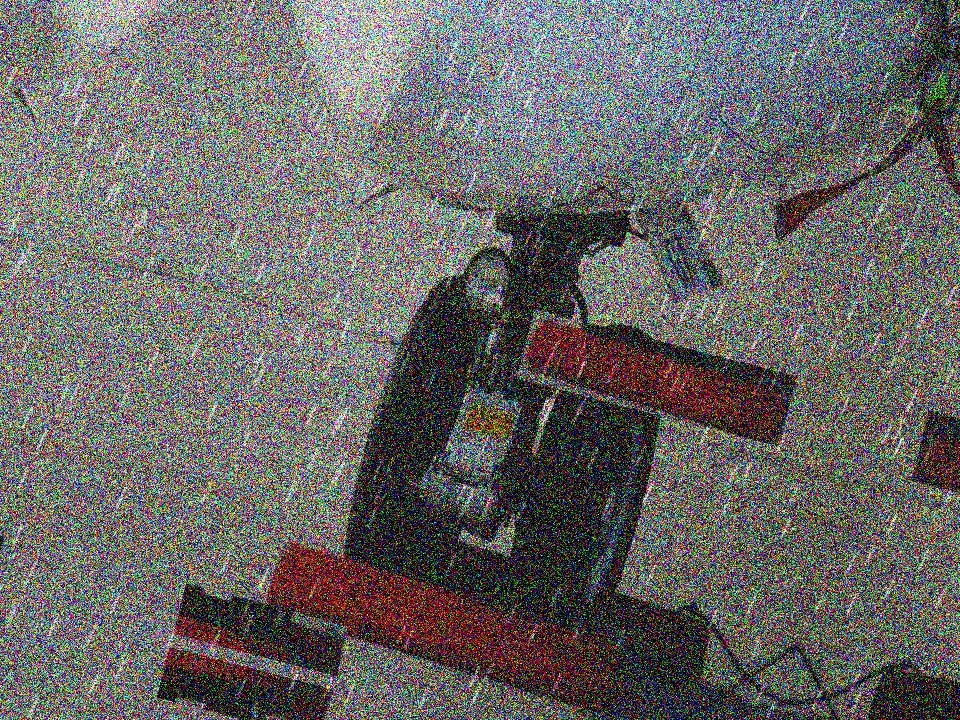chock: (255, 528, 640, 717), (406, 524, 723, 691), (516, 309, 797, 446), (173, 584, 350, 676), (157, 648, 333, 720)
wheel: (494, 309, 686, 640), (335, 257, 518, 586)
